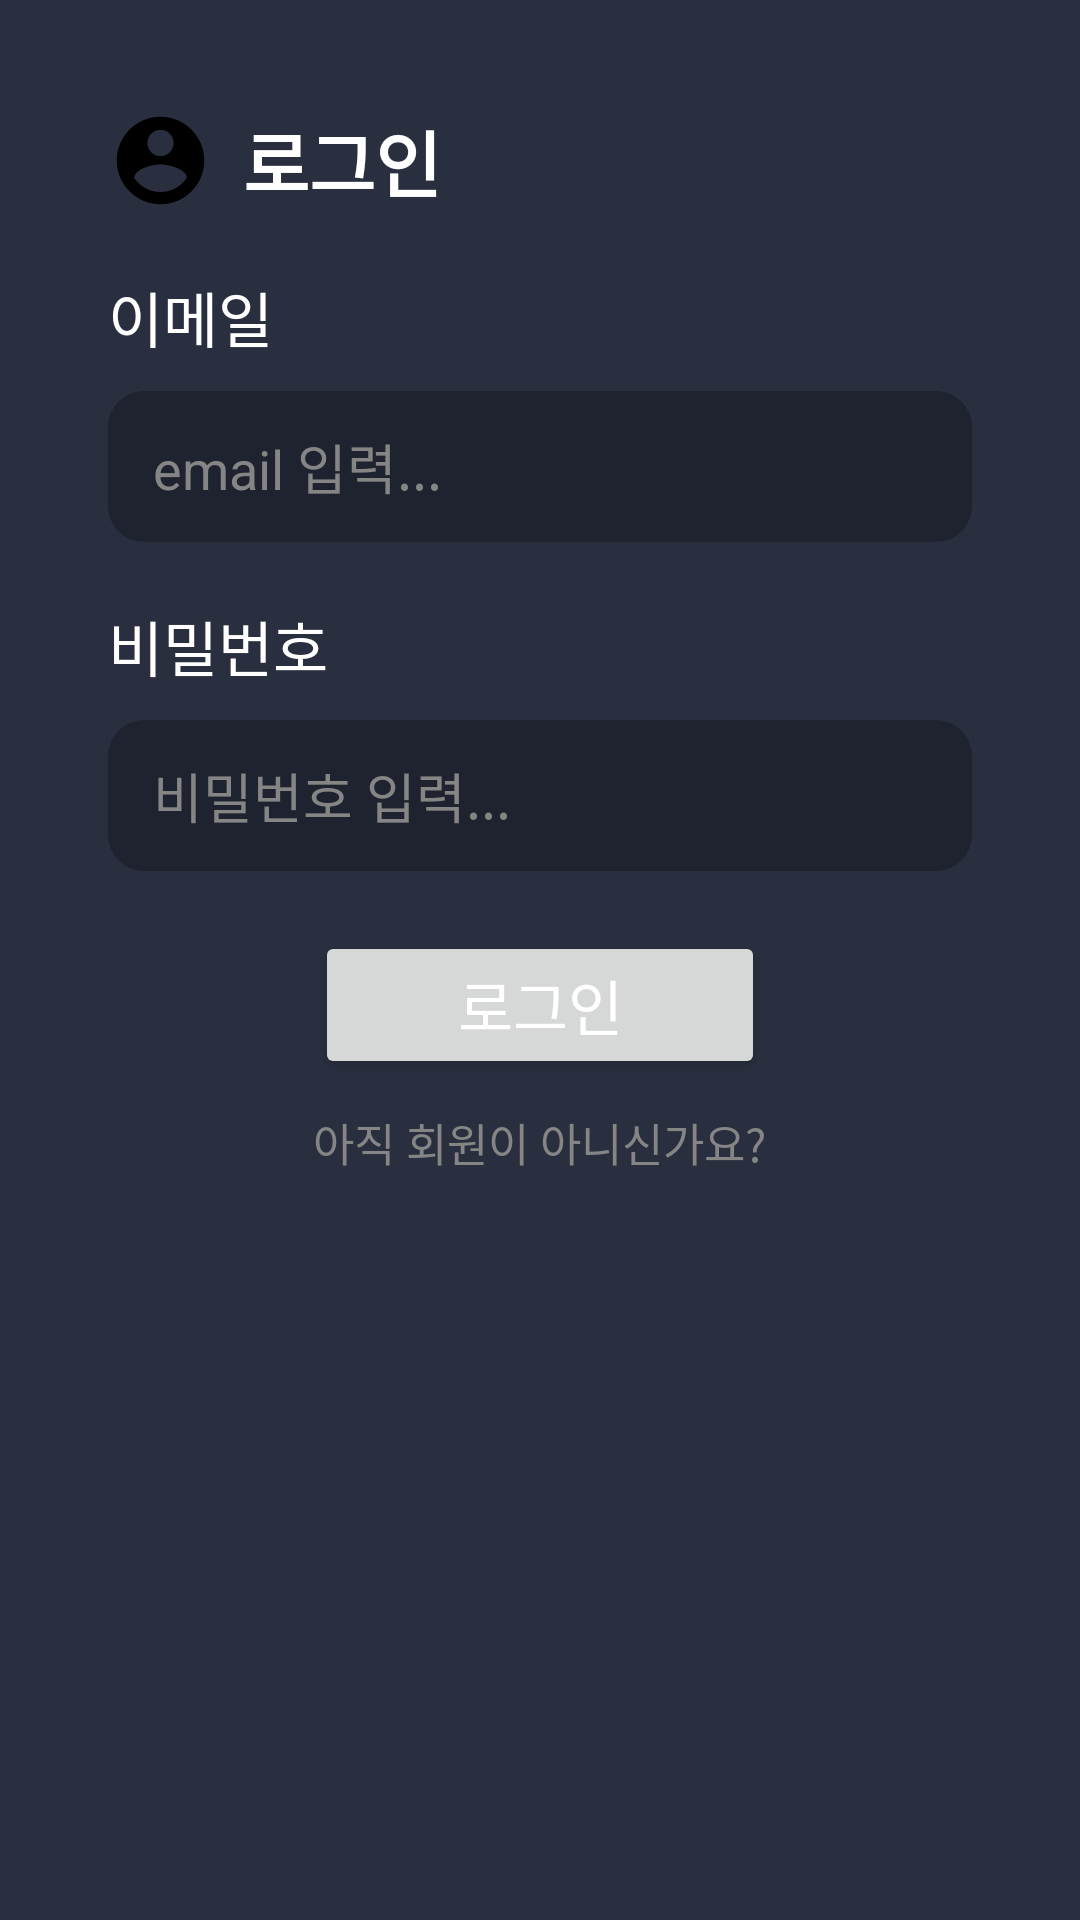

Screen size 1080px×1920px. Icon name, then its center in pixels as [x,y]:
account circle: [160,160]
